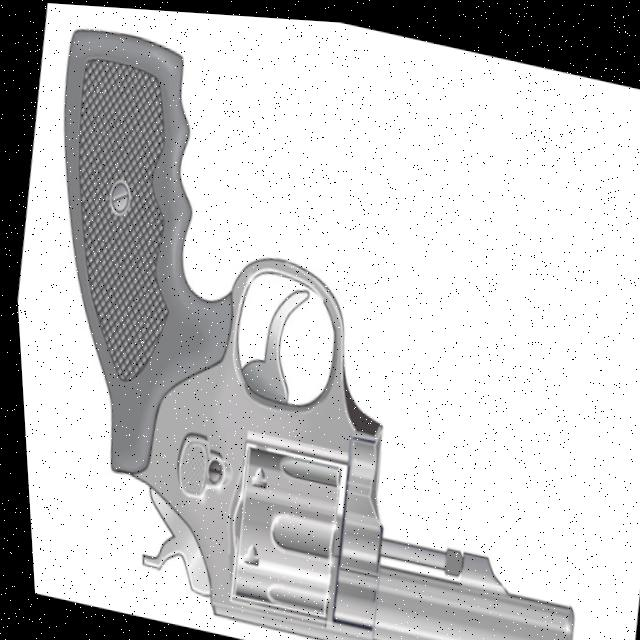pistol: (1, 17, 640, 640)
